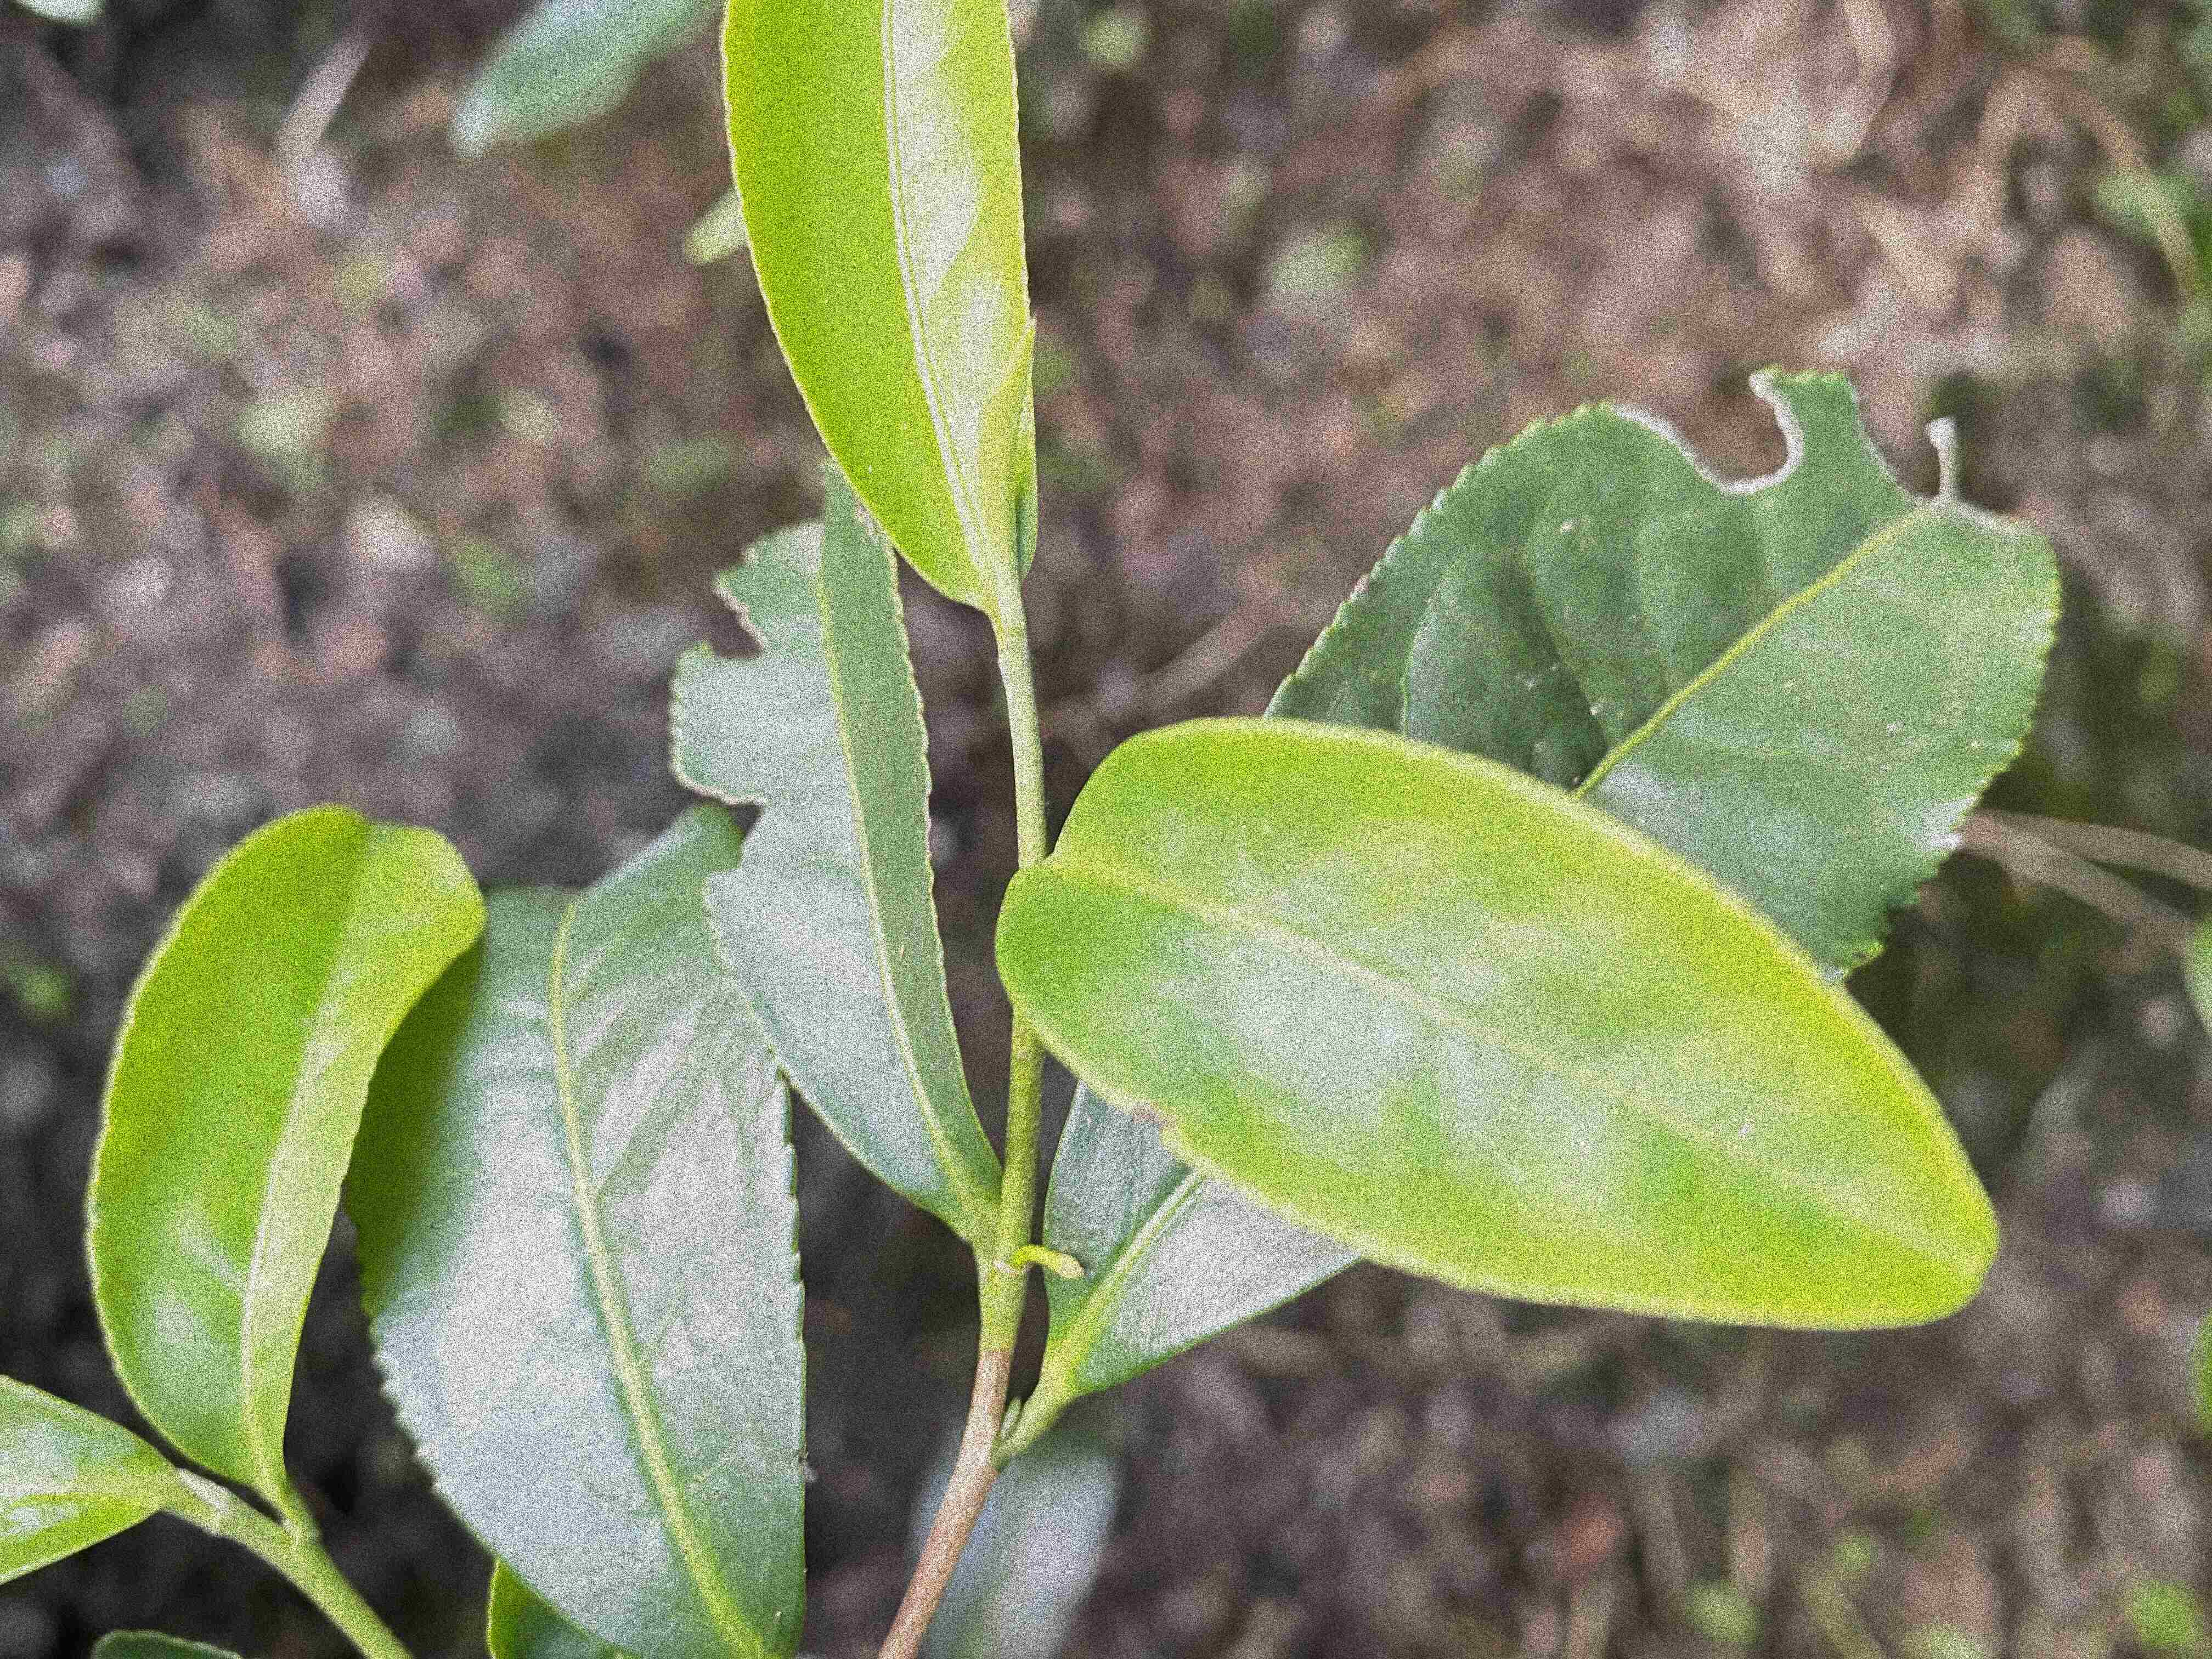chihuo_high: (1268, 361, 2064, 990), (665, 450, 1000, 1225)
healthy: (345, 803, 806, 1656), (78, 805, 491, 1493), (718, 3, 1045, 601)
tanju_low: (991, 716, 2000, 1338)
